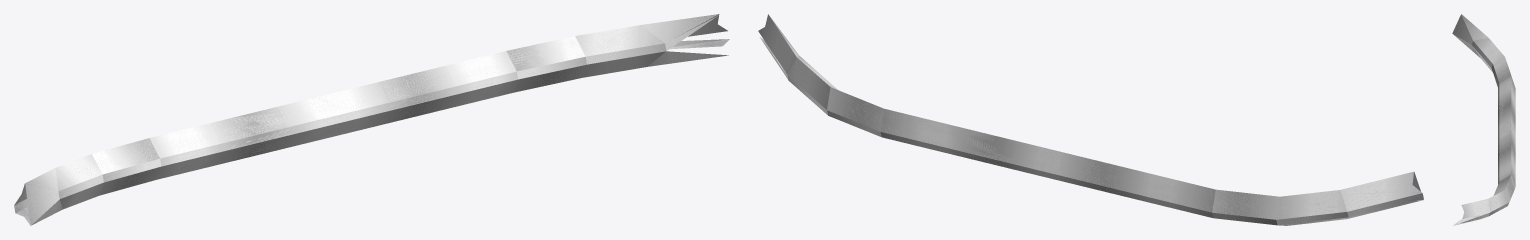
3 views of the same model, side by side, from view 1: azimuth 30°, elevation 25°; view 2: azimuth 150°, elevation 25°; view 3: azimuth 270°, elevation 25° (orthographic). The views are drawn at different scales.
Size of the model in its own units: 0.6806 by 0.059 by 0.0929.
4 materials, 2 textured.
